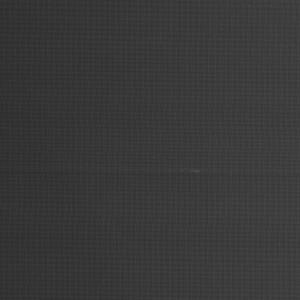Wrinkle: (1, 217, 300, 286), (1, 152, 300, 197)
